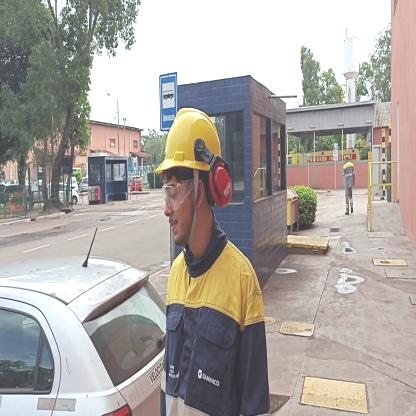C_eletrica: (163, 254, 268, 416)
Capacete: (157, 102, 219, 168)
